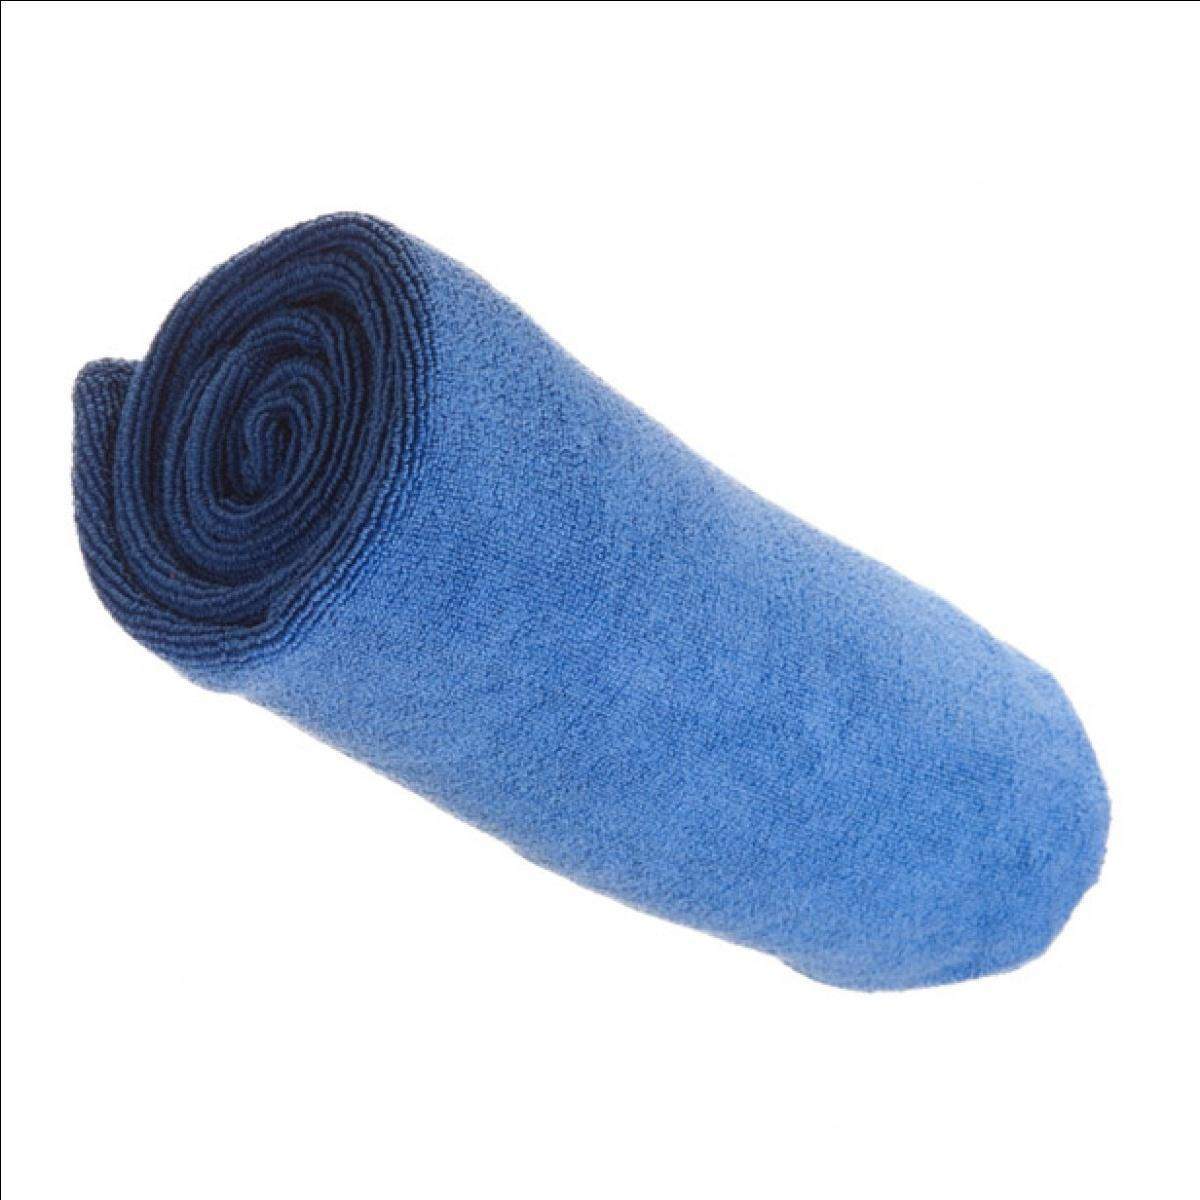towel: (20, 153, 1118, 1078)
